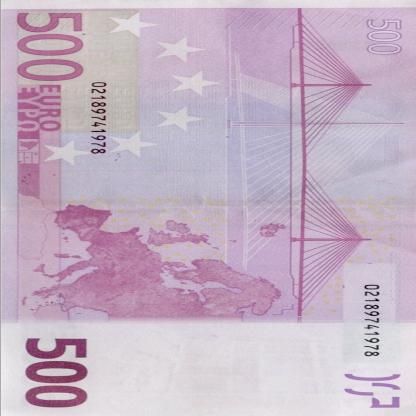euro_banknote: (1, 6, 414, 411)
